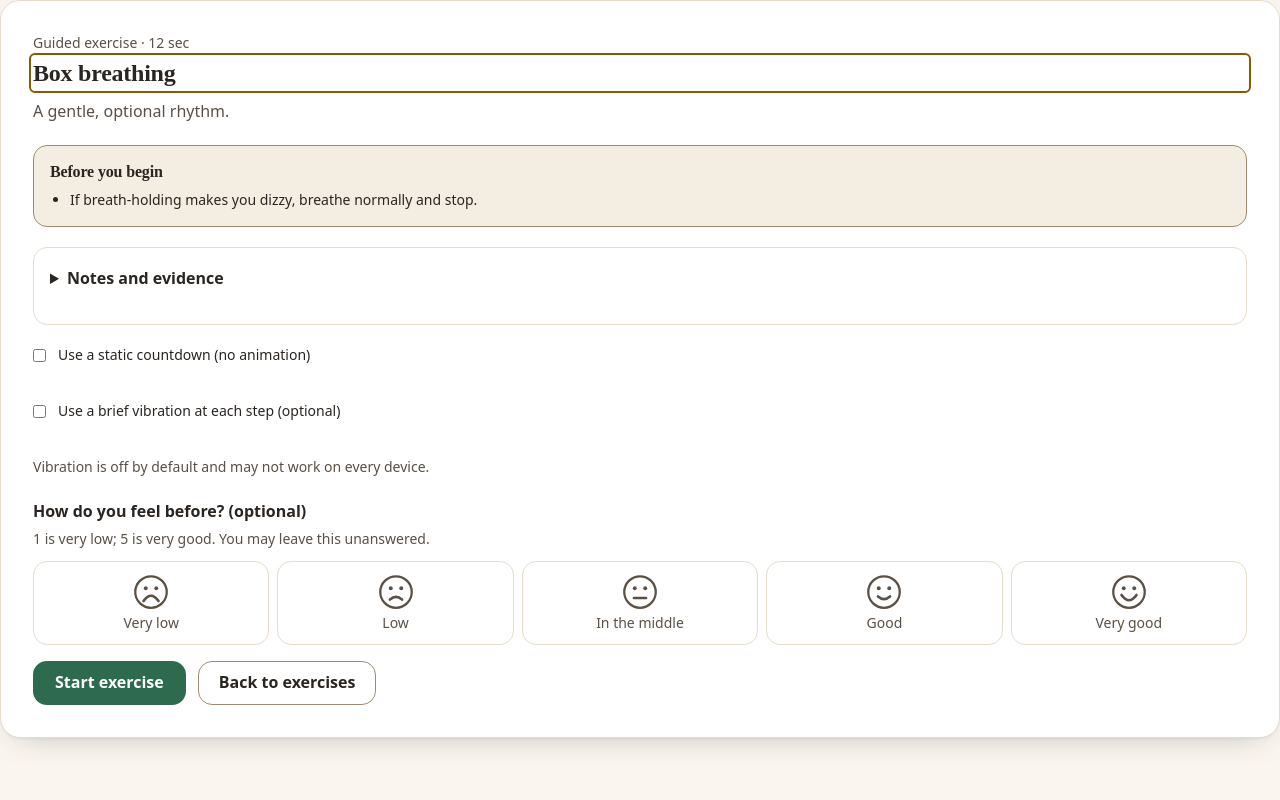
Test case: exercise runner timing with fake timers › pauses a hidden page and never resumes or skips instructions automatically
Click the button "Start exercise".
click(109, 682)  # box [33,660,186,704]
Wait 61000 ms
(page scrolled)
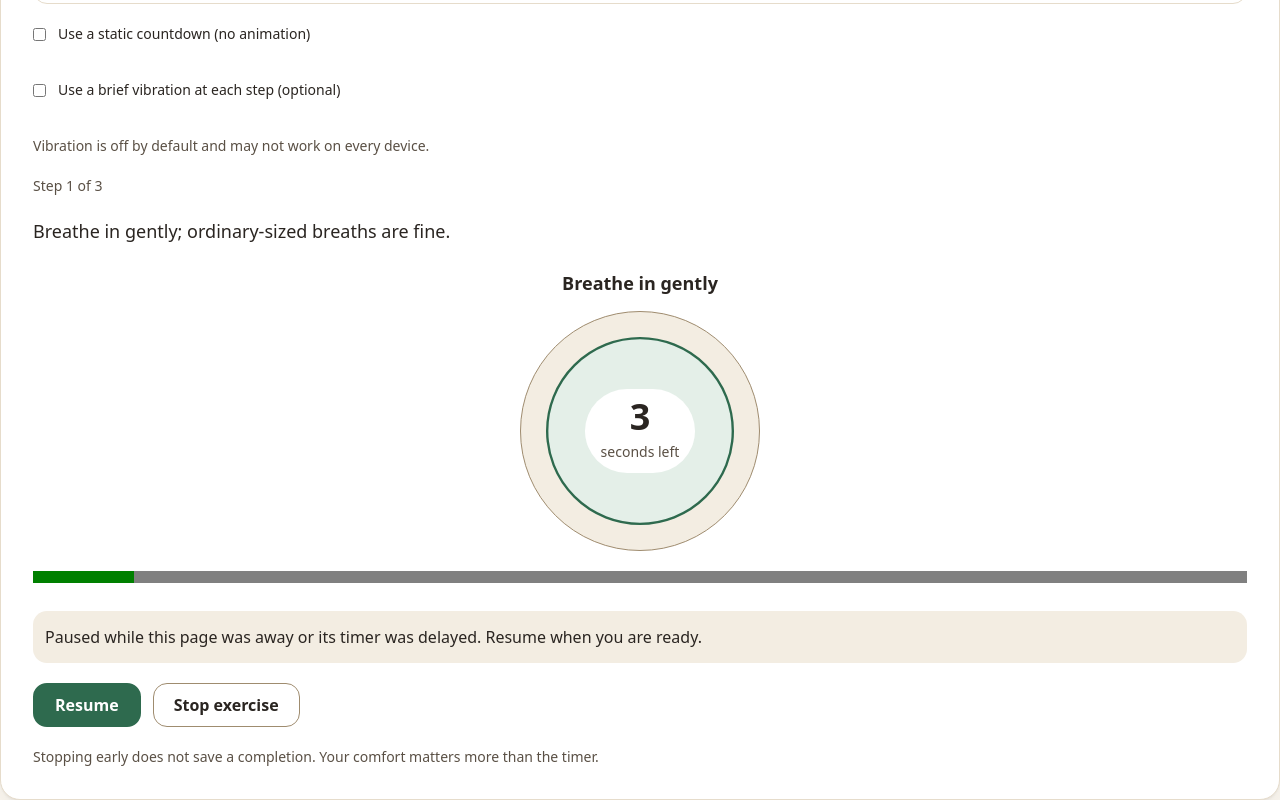
expect the text with test id "step-countdown" reads "3": met, box [630,392,650,441]
expect the button "Resume" is shown: met
Click the button "Resume".
click(87, 705)  # box [33,683,141,727]
Wait 3000 ms
(page scrolled)
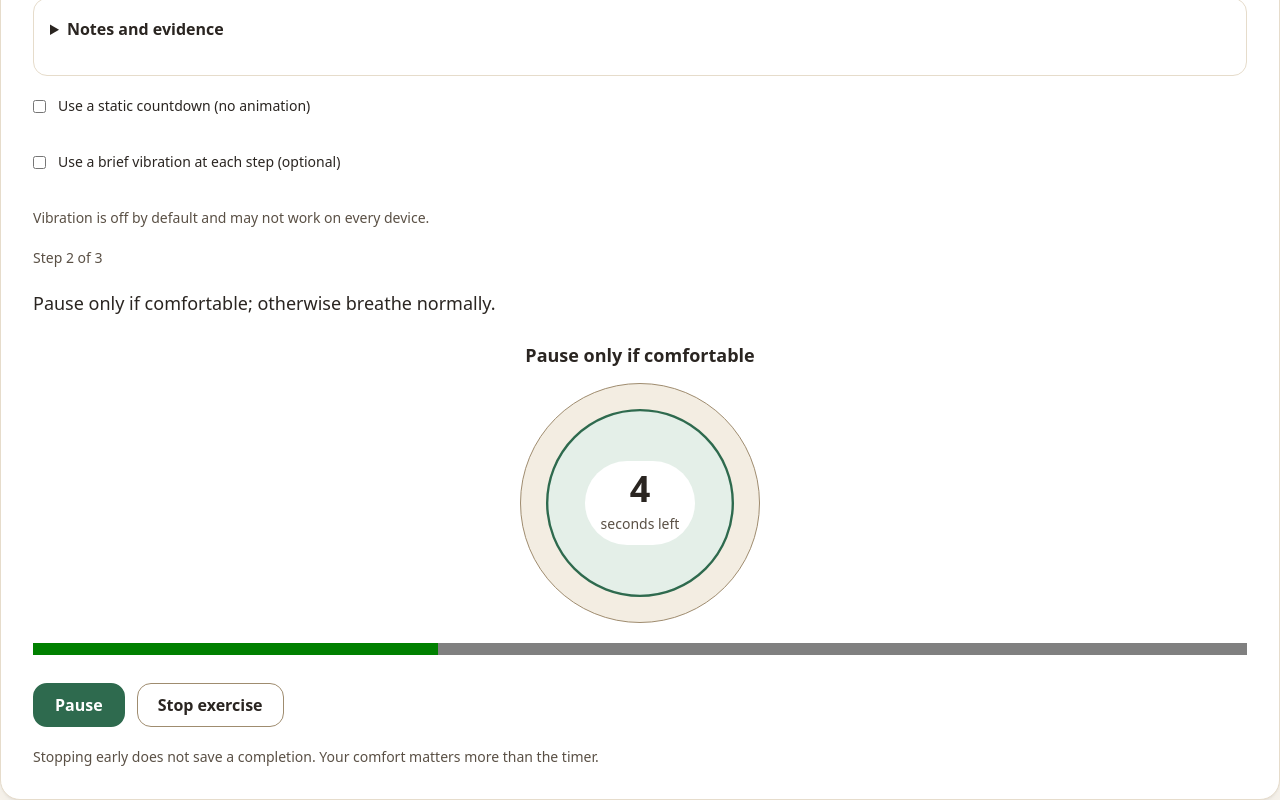
expect the text with test id "exercise-instruction" shows "Pause only if comfortable": met, box [33,291,496,315]
